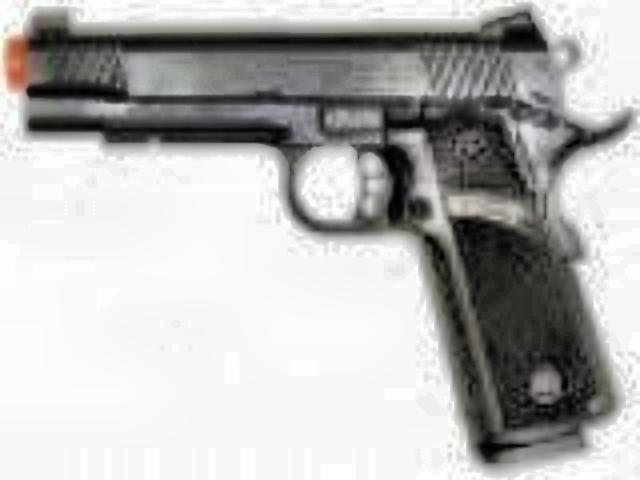pistol: (8, 4, 624, 460)
